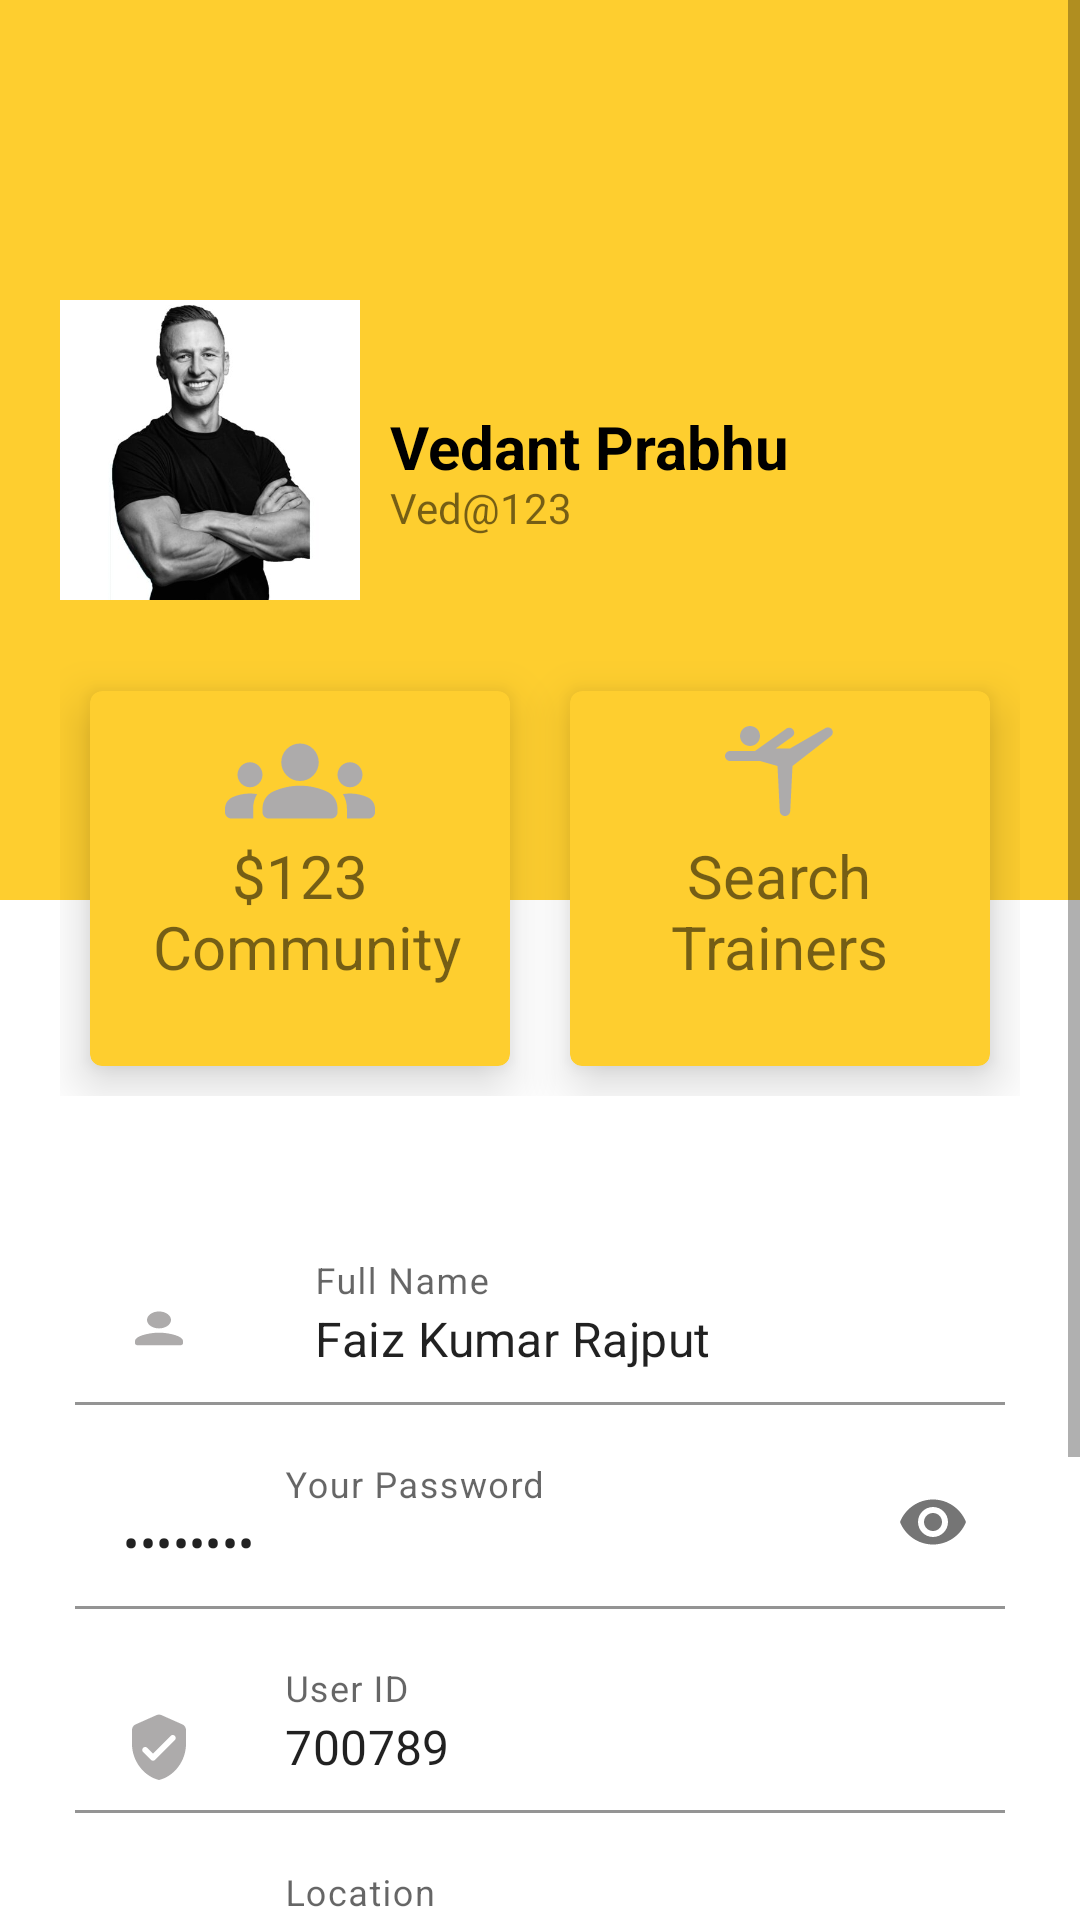

Icon click points for this 1080 × 1920 phone screenshot, format [x,y]:
groups: [300,781]
